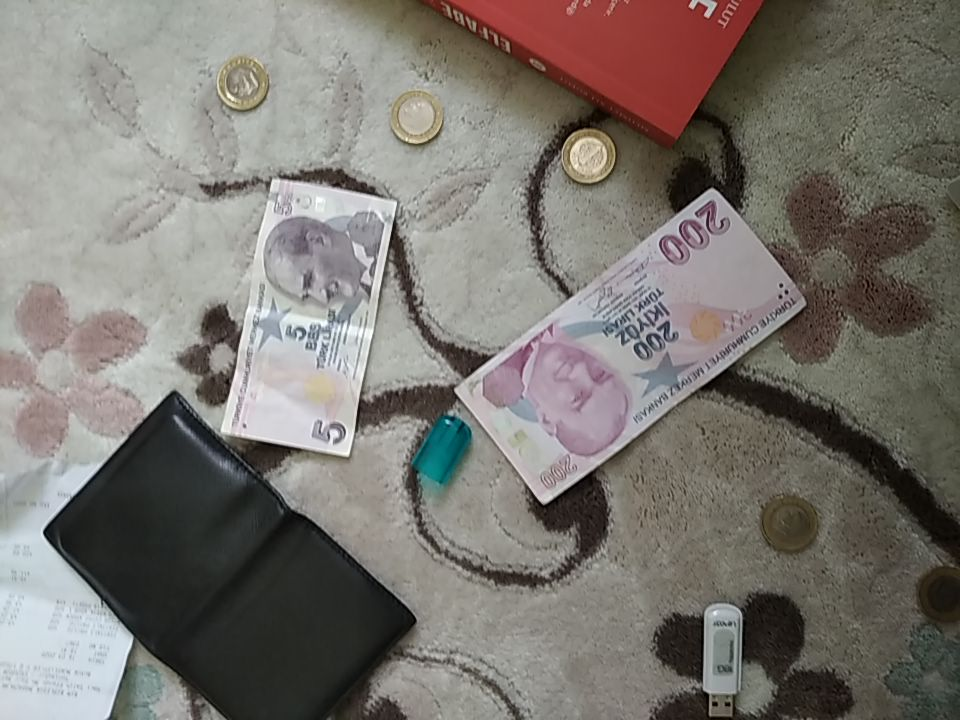200TL: (453, 187, 806, 508)
5TL: (221, 176, 398, 460)
